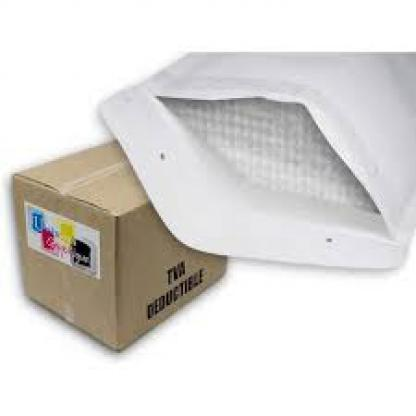paquete: (9, 130, 252, 362)
